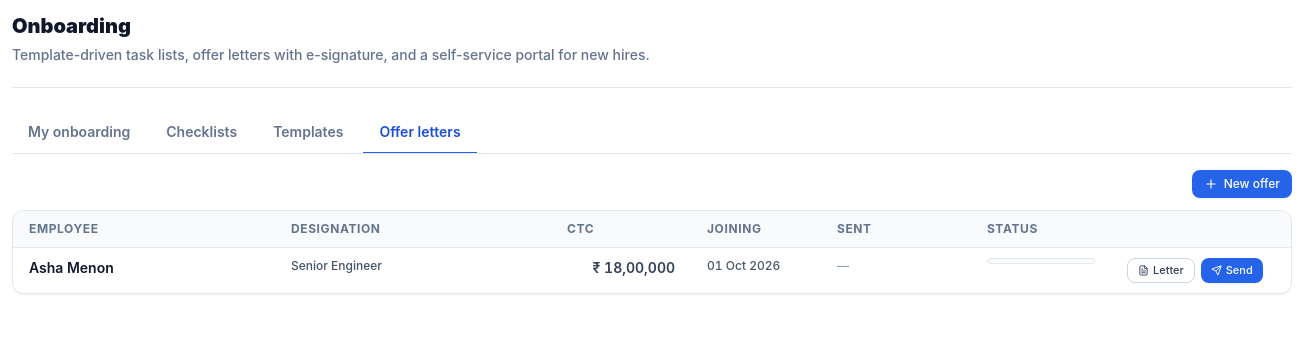
it: offer letters › sending goes through the API and surfaces a refusal
The image size is (1304, 340).
Click the button "Send": (1232, 271) left=1201, top=258, right=1263, bottom=284
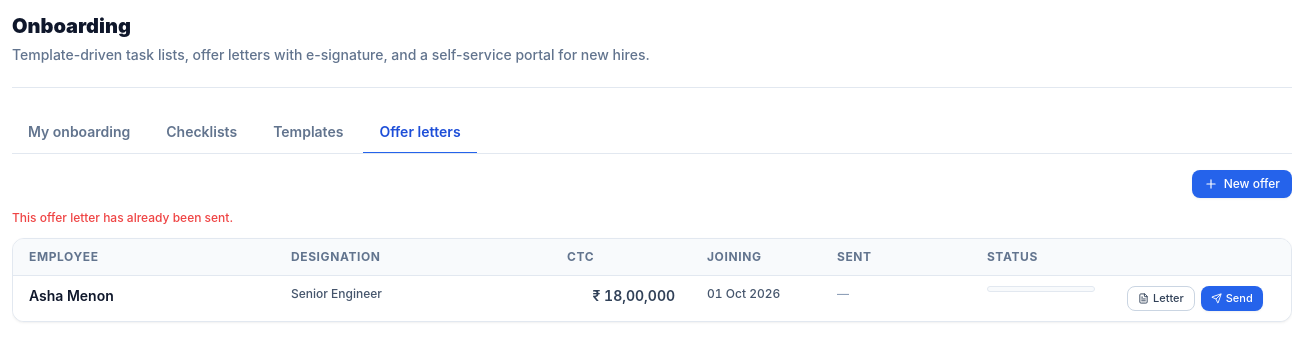
Expected: the message shows "already been sent", left=12, top=210, right=233, bottom=225
